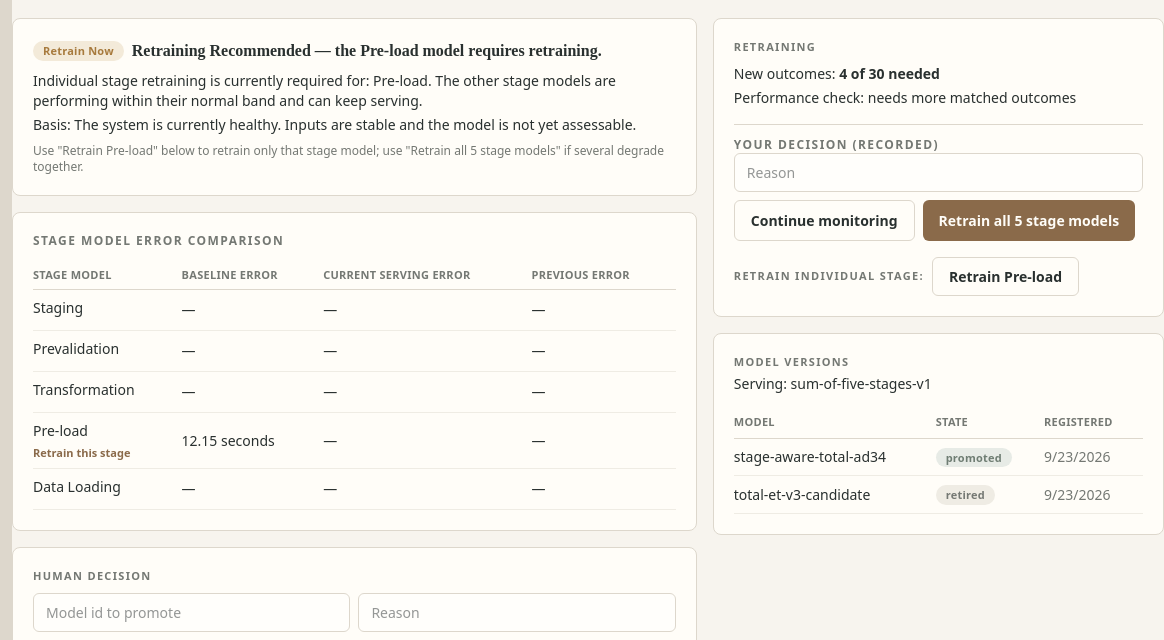
Test case: Drift & Retraining (2026-10-04 compact layout) › retrain-now trains a candidate, shows evaluation table, production unchanged
Expected: the element with test id "retraining-actions" is shown, [734, 124, 1143, 296]
Click the button with test id "retrain-now-button" at point(1029, 220), box [922, 200, 1135, 240]
(page scrolled)
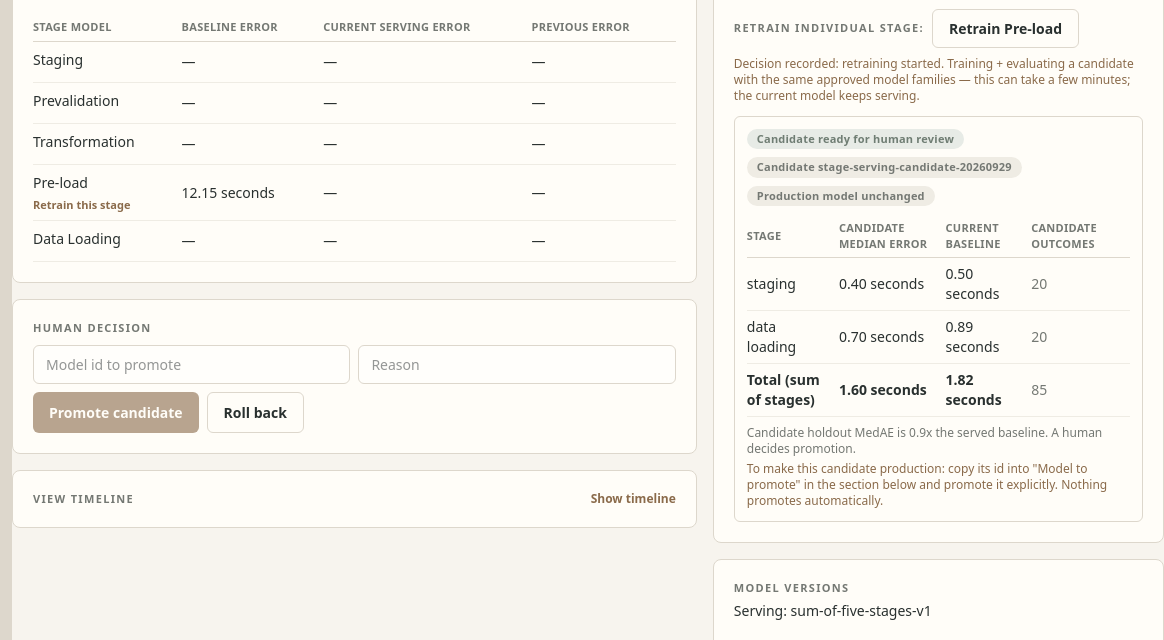
Expected: the element with test id "candidate-evaluation" is shown, [734, 116, 1143, 522]
Expected: the text with test id "candidate-verdict" reads "Candidate ready for human review", [757, 130, 954, 146]
Expected: the table with test id "candidate-stage-table" shows "Total (sum of stages)", [747, 370, 820, 409]
